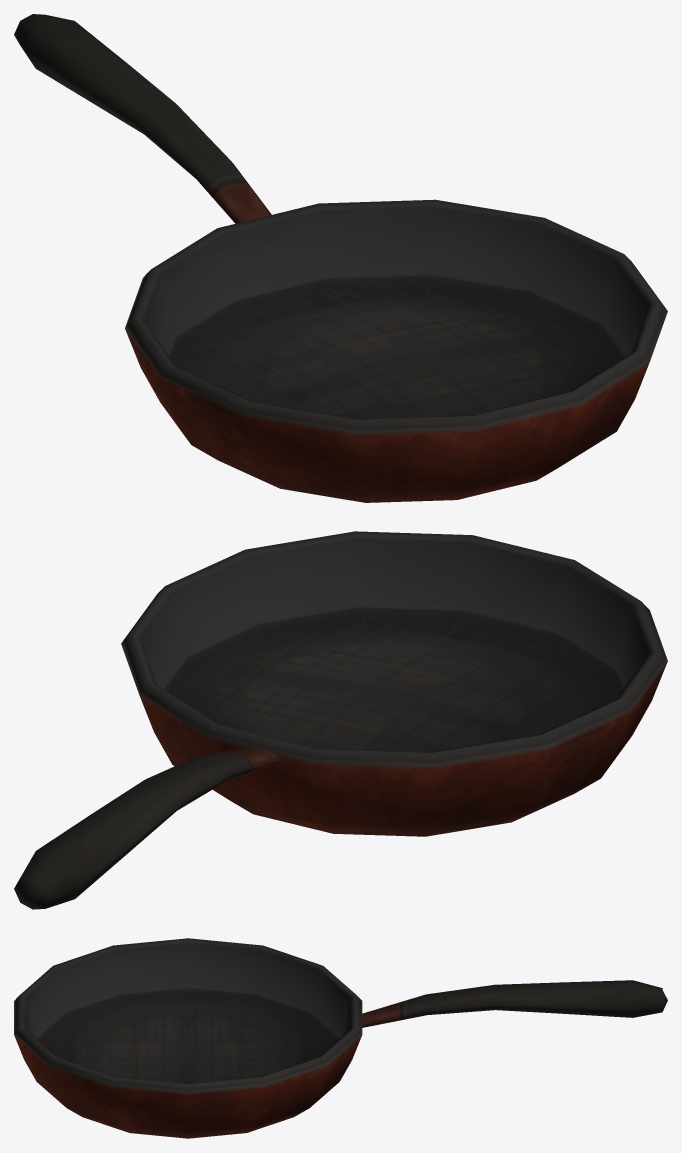
Rendered from Frypan.fbx.
3 renders of one model, top to bottom at view 1: azimuth 30°, elevation 25°; view 2: azimuth 150°, elevation 25°; view 3: azimuth 270°, elevation 25°, orthographic. The views are drawn at different scales.
Visible parts, largest first — view 1: Frypan1, FrypanHandle1; view 2: Frypan1, FrypanHandle1; view 3: Frypan1, FrypanHandle1.
Boxes of the visible parts, left/top/right/bottom form: Frypan1: left=125, top=199, right=667, bottom=502; FrypanHandle1: left=14, top=14, right=271, bottom=223; Frypan1: left=121, top=531, right=667, bottom=836; FrypanHandle1: left=14, top=748, right=281, bottom=909; Frypan1: left=14, top=938, right=362, bottom=1138; FrypanHandle1: left=362, top=980, right=667, bottom=1027.
Size of the model in its own units: 10.65 by 3.22 by 19.49.
